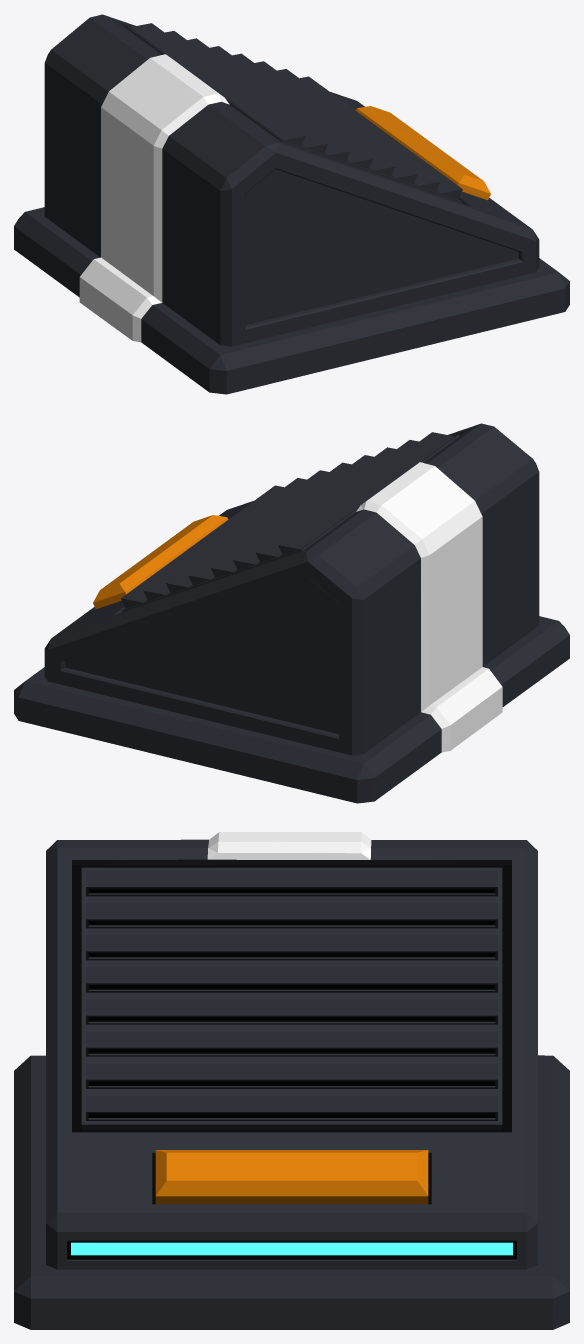
The model's file is SM_Intercom_Panel.fbx.
3 views of the same model, one above another, from view 1: azimuth 30°, elevation 25°; view 2: azimuth 150°, elevation 25°; view 3: azimuth 270°, elevation 25° (orthographic). The views are drawn at different scales.
Parts seen in each view (by area): view 1: SM_Intercom_Panel; view 2: SM_Intercom_Panel; view 3: SM_Intercom_Panel.
Part boxes in pixels (bbox=[...]): SM_Intercom_Panel: bbox=[14, 14, 569, 394]; SM_Intercom_Panel: bbox=[14, 423, 569, 803]; SM_Intercom_Panel: bbox=[14, 832, 569, 1329].
Bounding box in the file's own units: 14.75 × 8.81 × 14.55.
